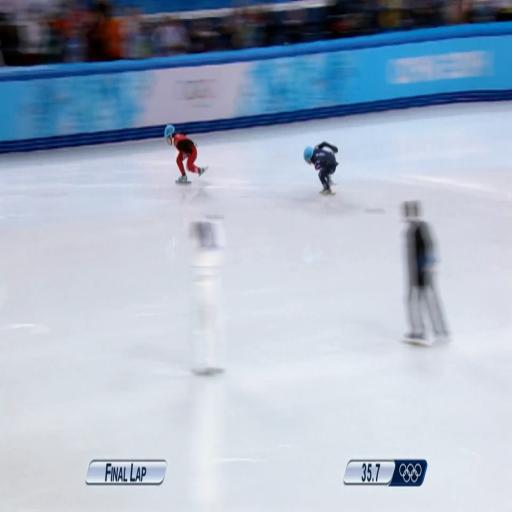Skater: (165, 125, 207, 184), (304, 142, 338, 194)
